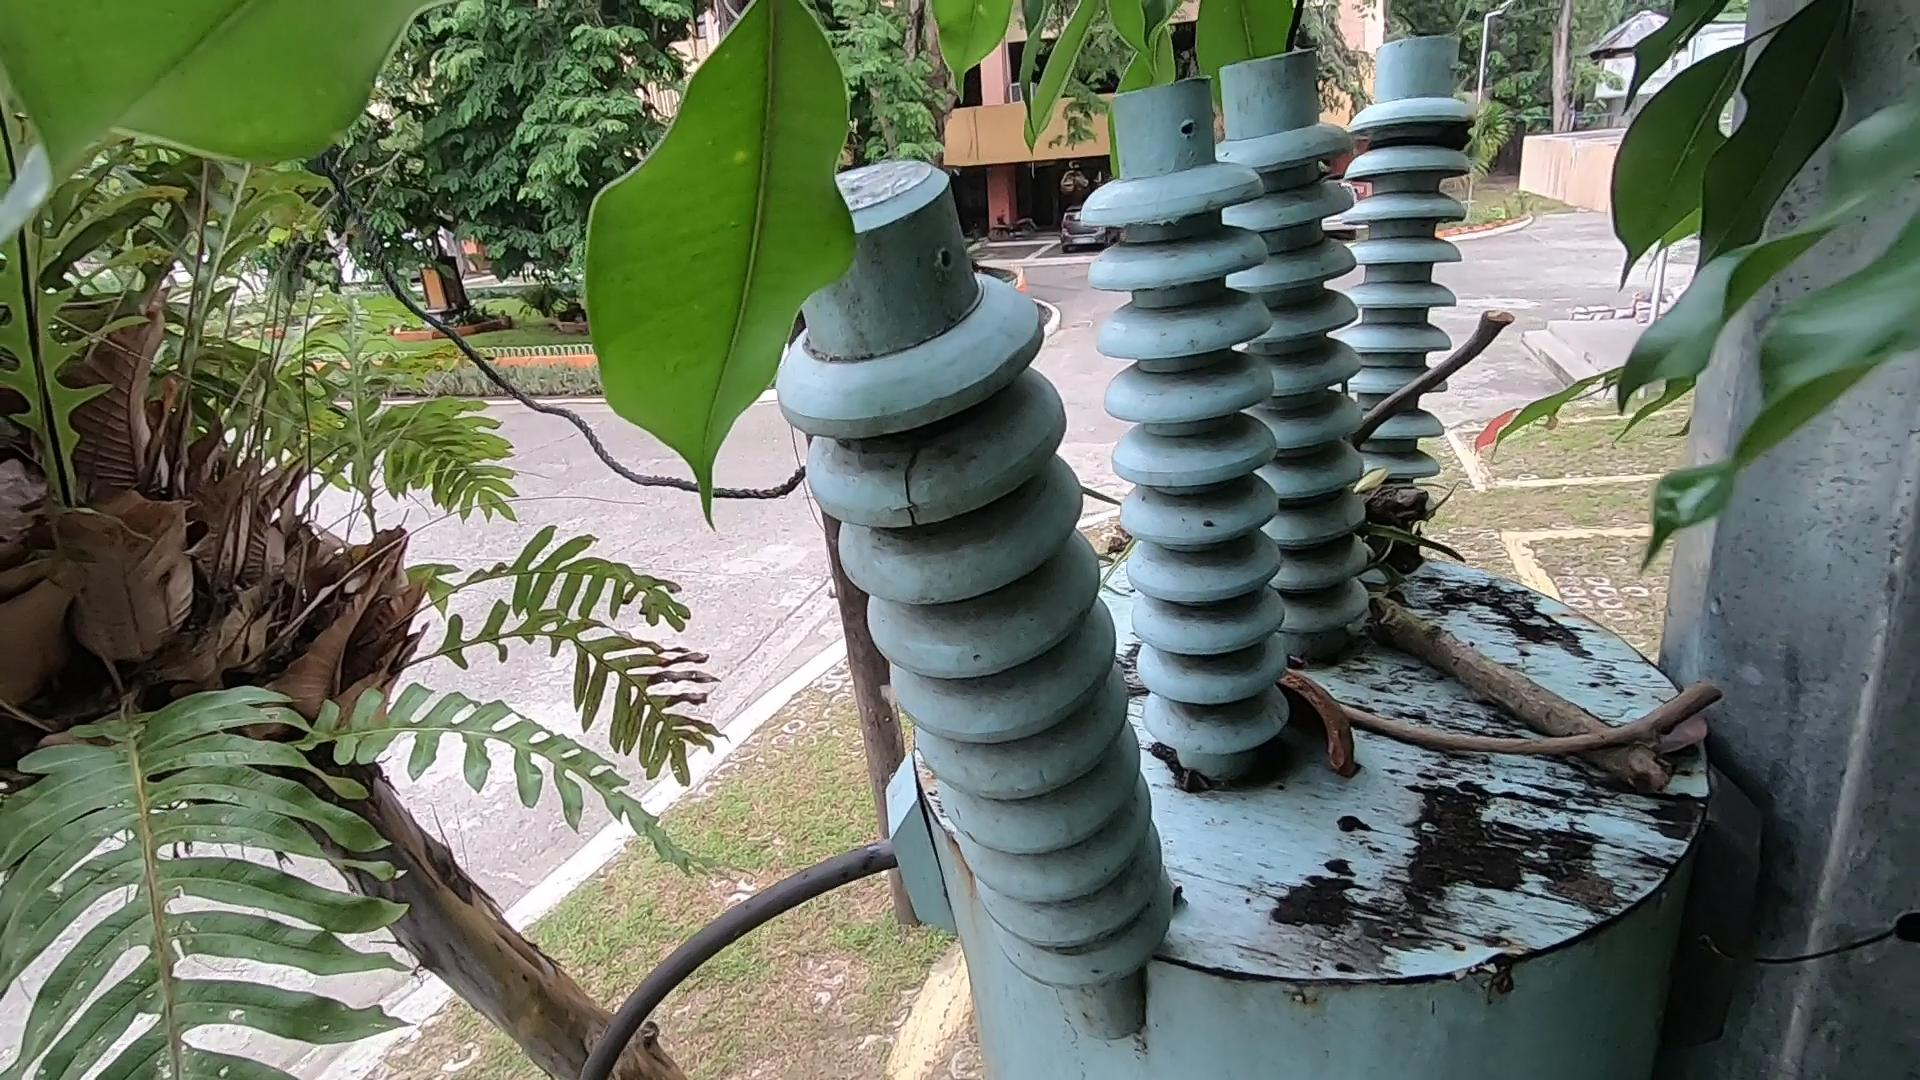branch with leaves: (1337, 521, 1693, 818)
leaf: (1611, 674, 1731, 819)
mahogany fruit: (1276, 651, 1366, 824)
tree branch: (1316, 190, 1578, 505), (1316, 702, 1776, 798)
